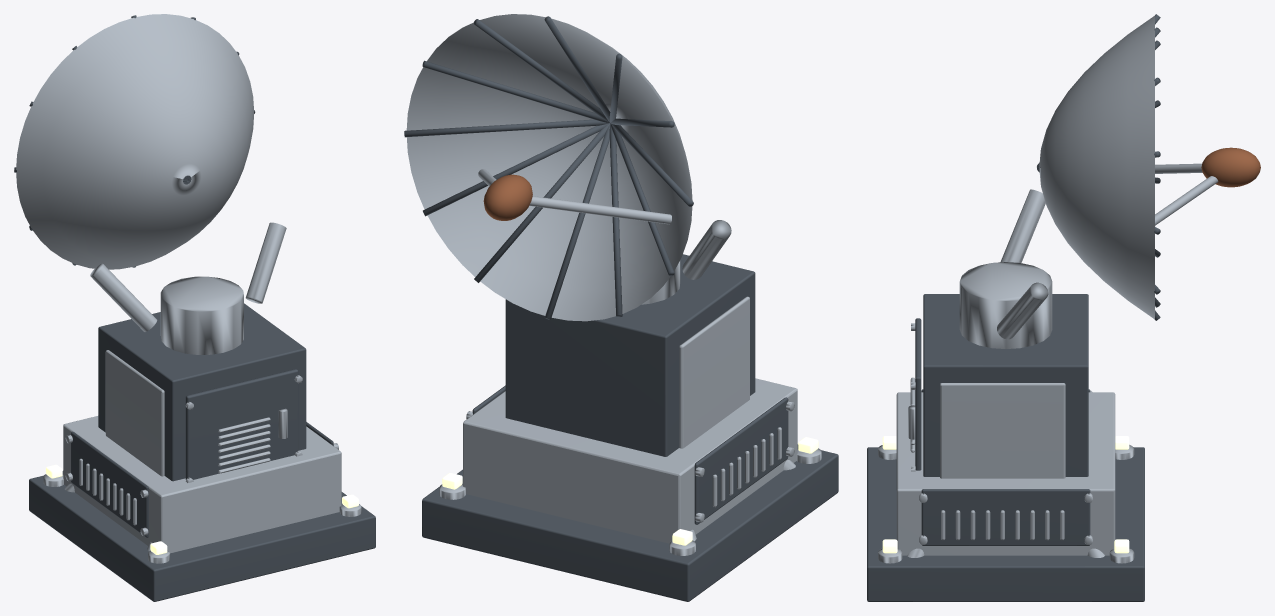
The model's file is ndr.glb.
The picture shows the model from 3 angles, left to right: view 1: azimuth 30°, elevation 25°; view 2: azimuth 150°, elevation 25°; view 3: azimuth 270°, elevation 25°; orthographic projection. The views are drawn at different scales.
Parts seen in each view (by area): view 1: head_steel.033, body_dark.165, body_steel.173, body_steel.174, body_warm.114; view 2: head_steel.033, body_dark.165, body_steel.173, head_dark.021, body_steel.174, head_copper.016, body_warm.114; view 3: body_dark.165, head_steel.033, body_steel.173, body_steel.174, head_copper.016, body_warm.114.
Part boxes in pixels (x1=…): head_steel.033: x1=16, y1=14, x2=286, y2=331; body_dark.165: x1=29, y1=303, x2=375, y2=601; body_steel.173: x1=63, y1=350, x2=341, y2=553; body_steel.174: x1=43, y1=276, x2=361, y2=563; body_warm.114: x1=45, y1=464, x2=358, y2=554; head_steel.033: x1=406, y1=14, x2=731, y2=321; body_dark.165: x1=422, y1=254, x2=838, y2=601; body_steel.173: x1=463, y1=296, x2=797, y2=543; head_dark.021: x1=404, y1=16, x2=693, y2=319; body_steel.174: x1=439, y1=260, x2=821, y2=555; head_copper.016: x1=483, y1=174, x2=532, y2=220; body_warm.114: x1=442, y1=437, x2=818, y2=545; body_dark.165: x1=867, y1=294, x2=1144, y2=601; head_steel.033: x1=997, y1=15, x2=1218, y2=339; body_steel.173: x1=896, y1=377, x2=1115, y2=555; body_steel.174: x1=878, y1=262, x2=1134, y2=563; head_copper.016: x1=1201, y1=147, x2=1260, y2=187; body_warm.114: x1=882, y1=436, x2=1129, y2=553.
Size of the model in its own units: 0.9311 by 1.72 by 1.19.
